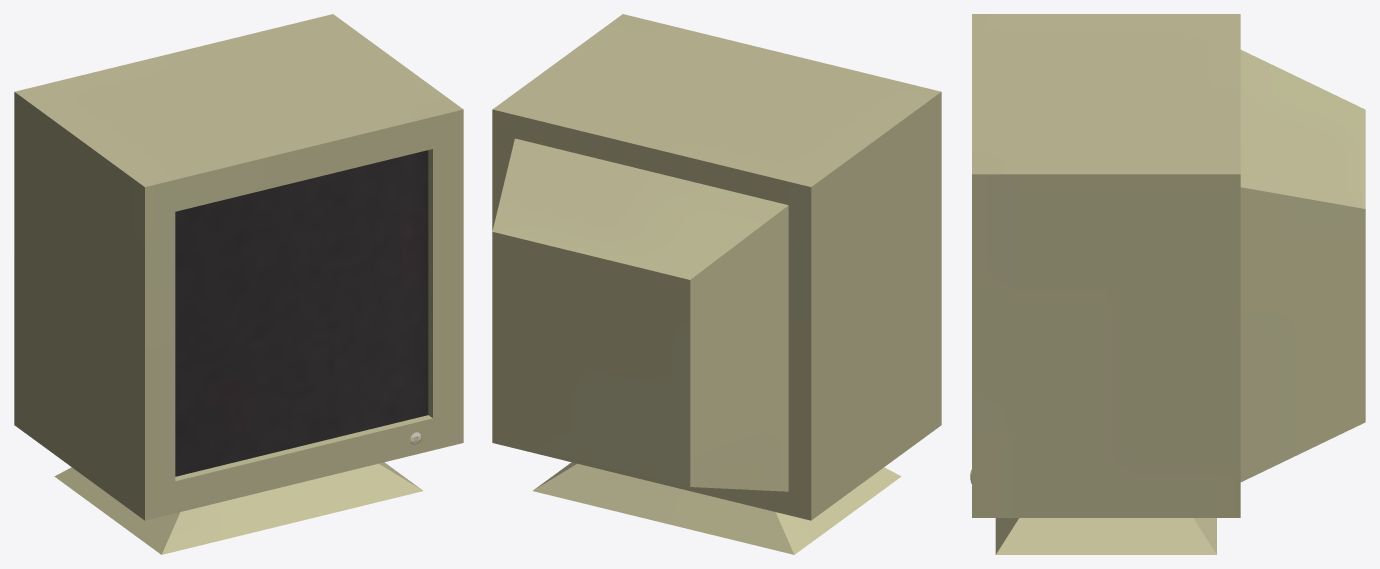
Rendered from TelaPC1.obj.
3 views of the same model, side by side, from view 1: azimuth 30°, elevation 25°; view 2: azimuth 150°, elevation 25°; view 3: azimuth 270°, elevation 25° (orthographic). The views are drawn at different scales.
Visible parts, largest first — view 1: Telapc1_Cube; view 2: Telapc1_Cube; view 3: Telapc1_Cube.
Boxes of the visible parts, box(x1,y1,x2,y2) form: Telapc1_Cube: box(14, 14, 463, 554); Telapc1_Cube: box(492, 14, 941, 554); Telapc1_Cube: box(970, 14, 1365, 554).
Bounding box in the file's own units: 2 × 2.3 × 2.08.
1 material, 1 textured.
